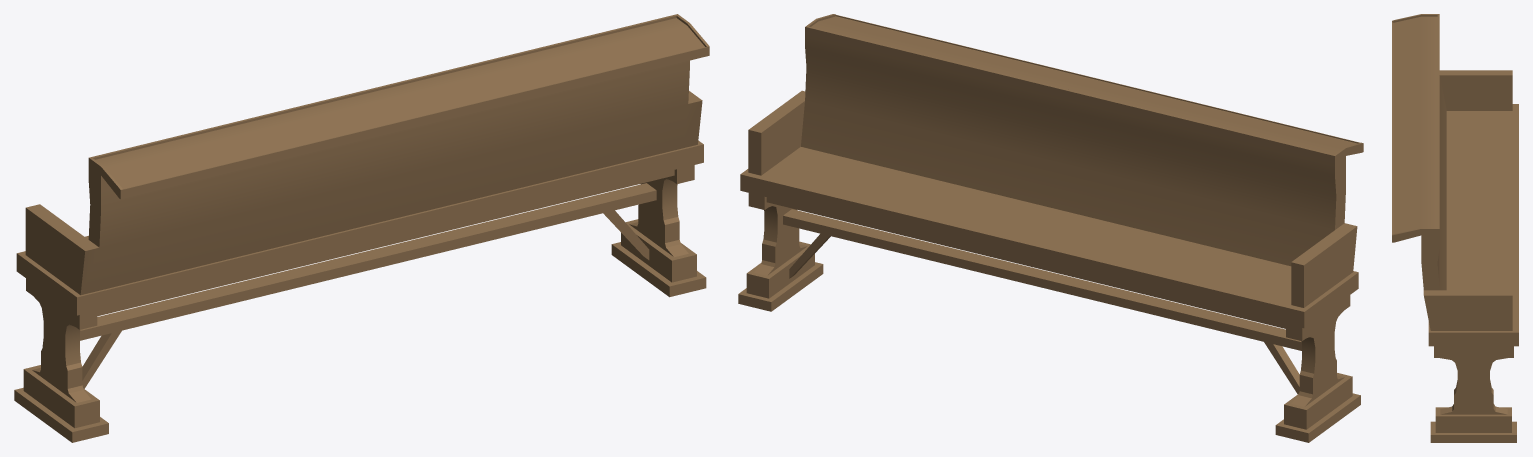
The model's file is Ława Kościelna.fbx.
3 views of the same model, side by side, from view 1: azimuth 30°, elevation 25°; view 2: azimuth 150°, elevation 25°; view 3: azimuth 270°, elevation 25° (orthographic). The views are drawn at different scales.
Parts seen in each view (by area): view 1: Ława_kościelna; view 2: Ława_kościelna; view 3: Ława_kościelna.
Boxes of the visible parts, box(x1,y1,x2,y2) form: Ława_kościelna: box(14, 14, 709, 442); Ława_kościelna: box(738, 14, 1363, 442); Ława_kościelna: box(1392, 14, 1518, 442).
Size of the model in its own units: 182 by 75.55 by 42.23.
